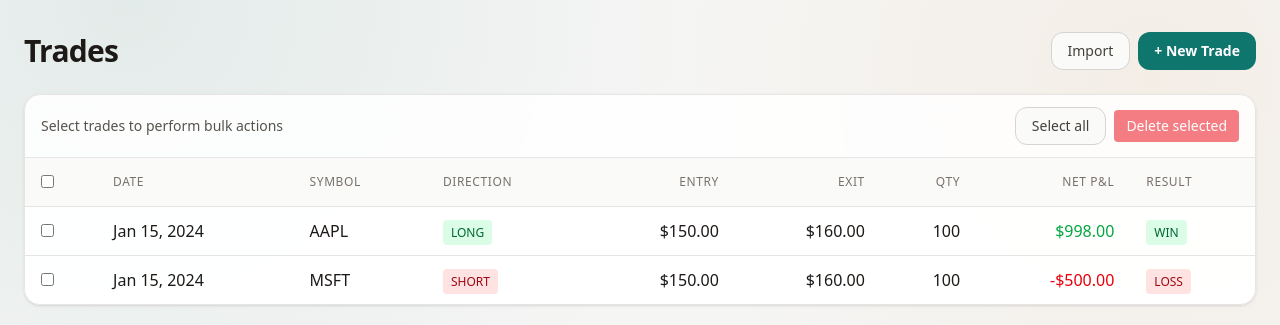
Test: TradeList › with trades › selects trades for bulk actions
Click the checkbox named "Select trade AAPL on 2024-01-15" at (48, 230), box [41, 224, 54, 237]
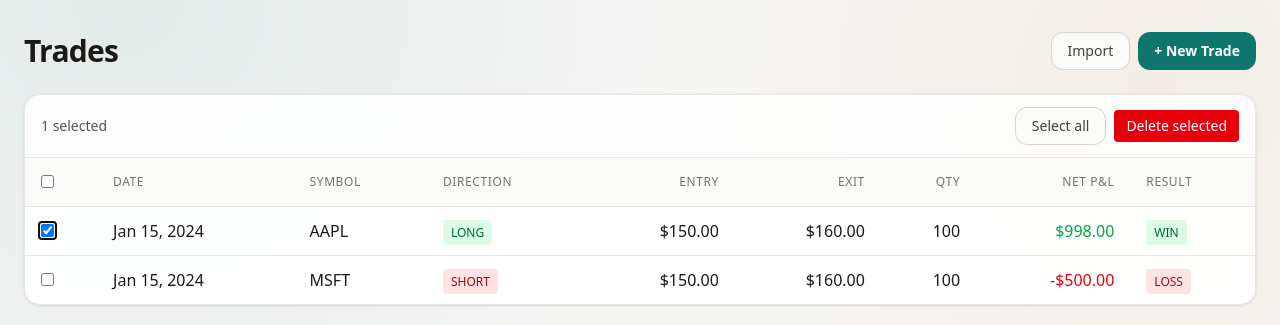
Now the text "1 selected" is shown, box [41, 116, 107, 136]
